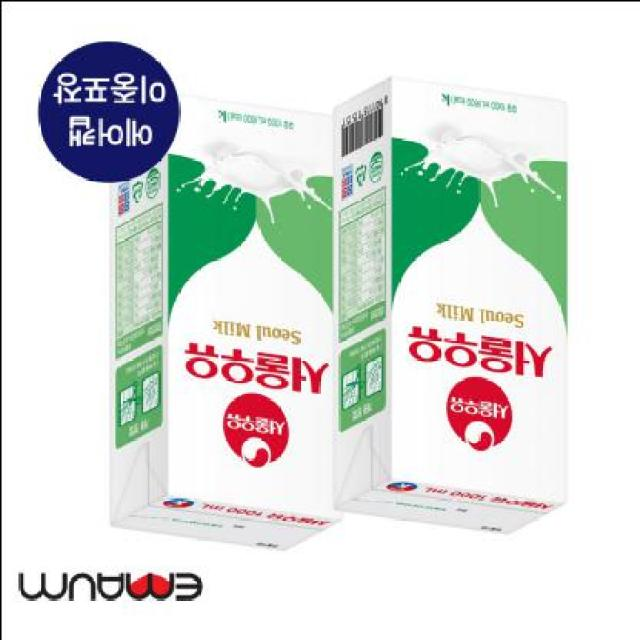tetra: (312, 52, 610, 556)
